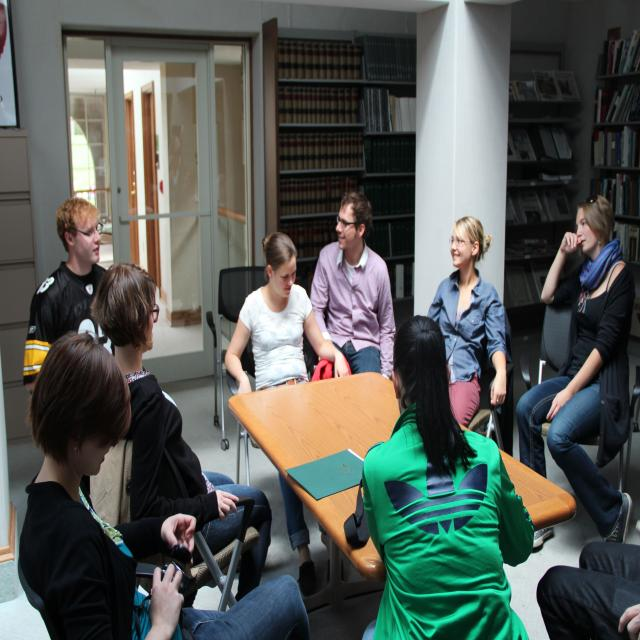body: (15, 328, 312, 640), (88, 261, 274, 605), (359, 311, 536, 640), (223, 230, 350, 600), (514, 190, 636, 555), (22, 196, 115, 393), (426, 214, 508, 429), (309, 190, 398, 380), (528, 502, 640, 640)
